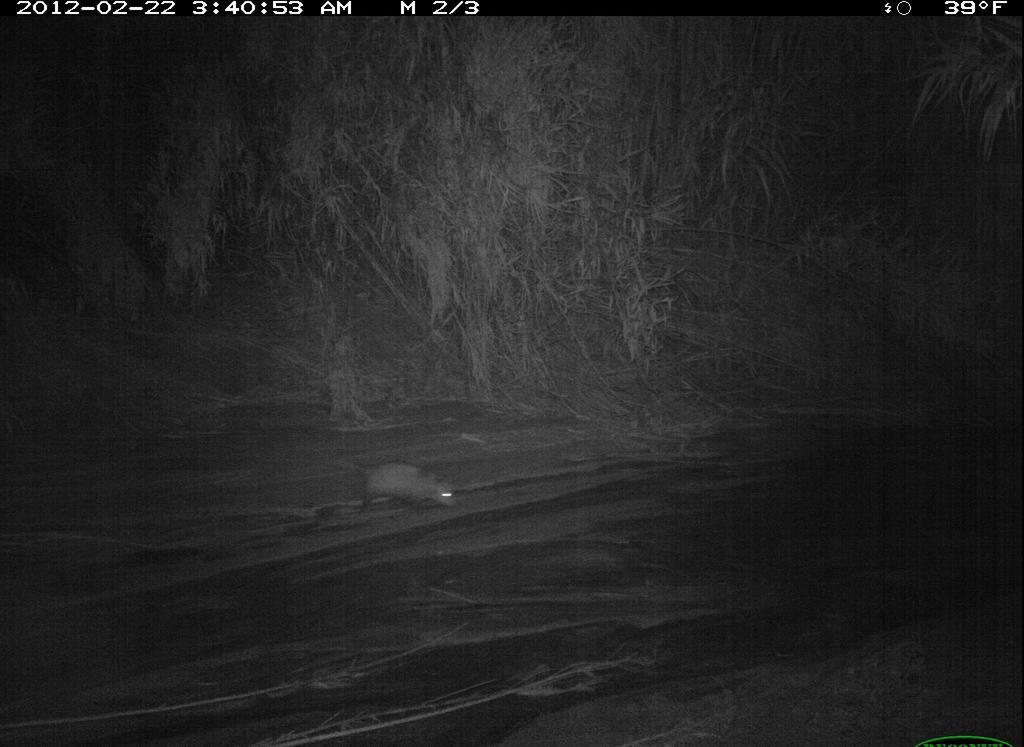opossum: (333, 446, 463, 525)
